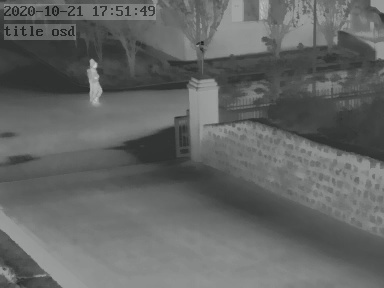person: (86, 57, 102, 103)
